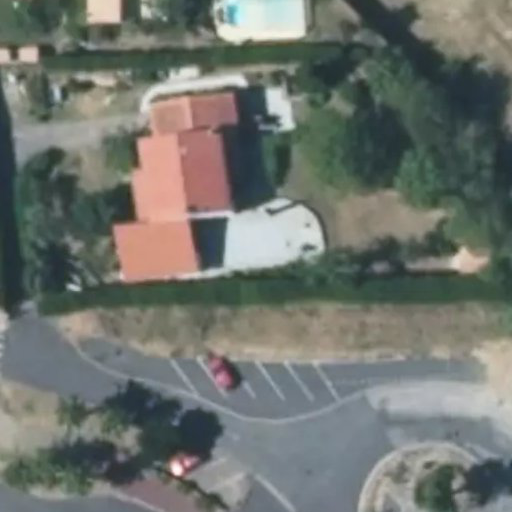pool: (208, 223, 305, 259)
